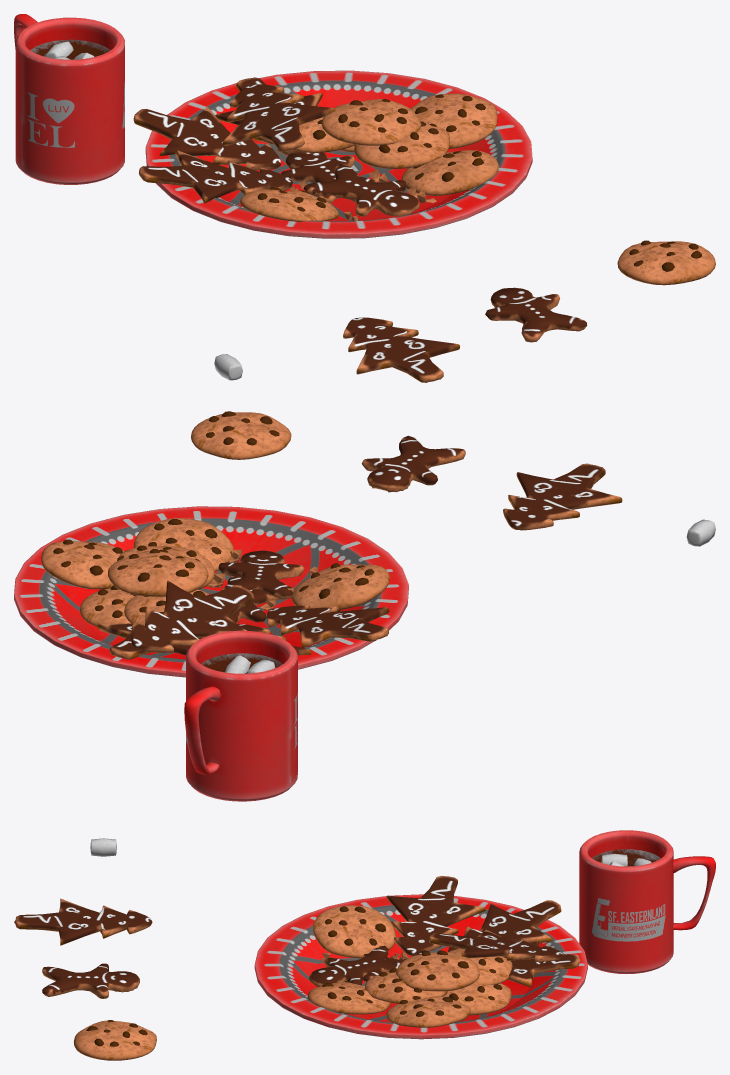
The model's file is christmas_cookies_collection (1).glb.
The picture shows the model from 3 angles, top to bottom: view 1: azimuth 30°, elevation 25°; view 2: azimuth 150°, elevation 25°; view 3: azimuth 270°, elevation 25°; orthographic projection. The views are drawn at different scales.
Visible parts, largest first — view 1: Circle.008, Circle, Cylinder, Plane, Circle.002, Circle.001, Cylinder.001, Cube; view 2: Circle.008, Circle, Cylinder, Plane, Circle.002, Circle.001, Cylinder.001; view 3: Circle.008, Circle, Cylinder, Plane, Circle.002, Circle.001, Cylinder.001, Cube.
Part boxes in pixels (<box>): Circle.008: <box>133,77,498,221</box>; Circle: <box>145,70,532,238</box>; Cylinder: <box>14,14,124,184</box>; Plane: <box>343,317,459,382</box>; Circle.002: <box>617,240,715,285</box>; Circle.001: <box>485,287,587,342</box>; Cylinder.001: <box>30,39,110,59</box>; Cube: <box>214,354,242,380</box>; Circle.008: <box>41,518,389,659</box>; Circle: <box>14,506,408,677</box>; Cylinder: <box>184,630,297,801</box>; Plane: <box>503,463,622,530</box>; Circle.002: <box>191,411,291,459</box>; Circle.001: <box>361,435,465,492</box>; Cylinder.001: <box>201,653,282,673</box>; Circle.008: <box>307,875,580,1027</box>; Circle: <box>254,894,587,1039</box>; Cylinder: <box>579,830,715,973</box>; Plane: <box>14,898,152,945</box>; Circle.002: <box>74,1020,156,1060</box>; Circle.001: <box>42,963,139,998</box>; Cylinder.001: <box>592,849,660,866</box>; Cube: <box>90,838,116,856</box>.
Bounding box in the file's own units: 0.7832 × 0.1861 × 1.12.
Materials: 1 (1 with a texture image).
